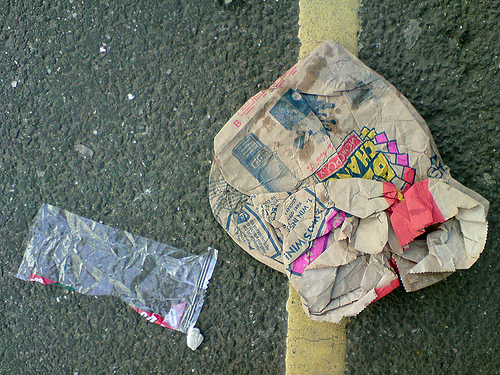litter: (207, 39, 487, 318), (14, 205, 217, 333)
